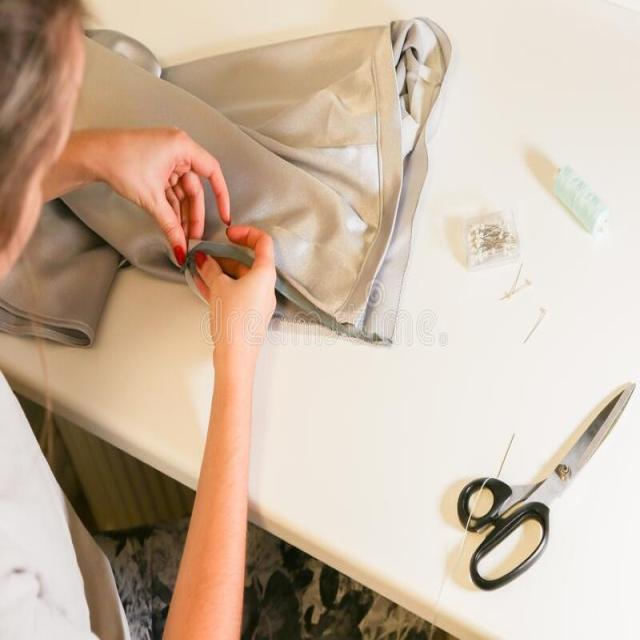clothes: (286, 12, 441, 320), (99, 30, 288, 124), (40, 227, 142, 362), (233, 135, 293, 224)
